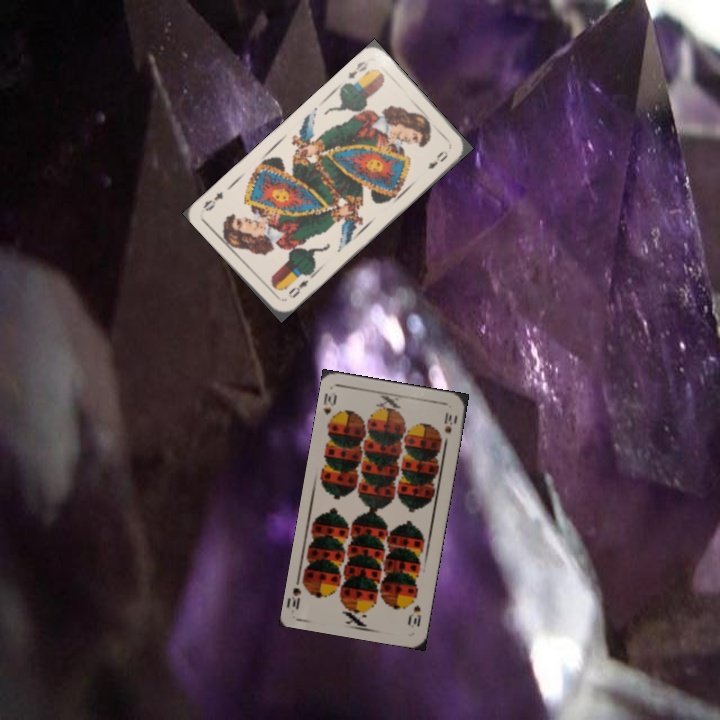EO: (284, 275, 311, 301), (344, 57, 371, 81)
S10: (319, 388, 339, 426), (405, 601, 424, 629)
